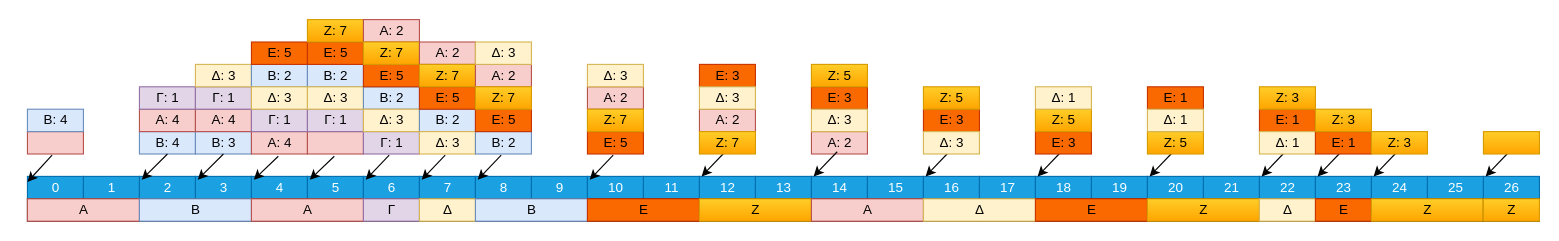
Some shapes in this 1559 by 241 pixel diagram are drawn without their labels. Each missing label, with the centre of its shape:
"A: 3" goes at [334,142].
"A: 6" goes at [54,142].
"Ζ: 1" goes at [1510,142].
